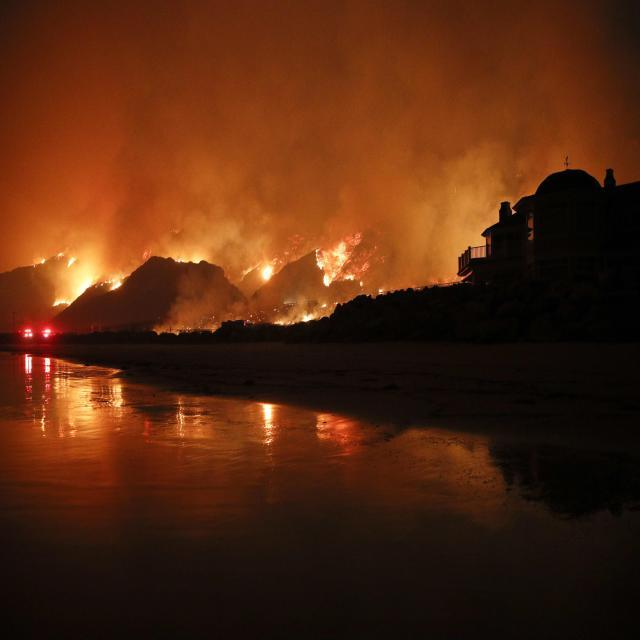Fire: (17, 225, 452, 328)
Smoke: (50, 127, 553, 268)
